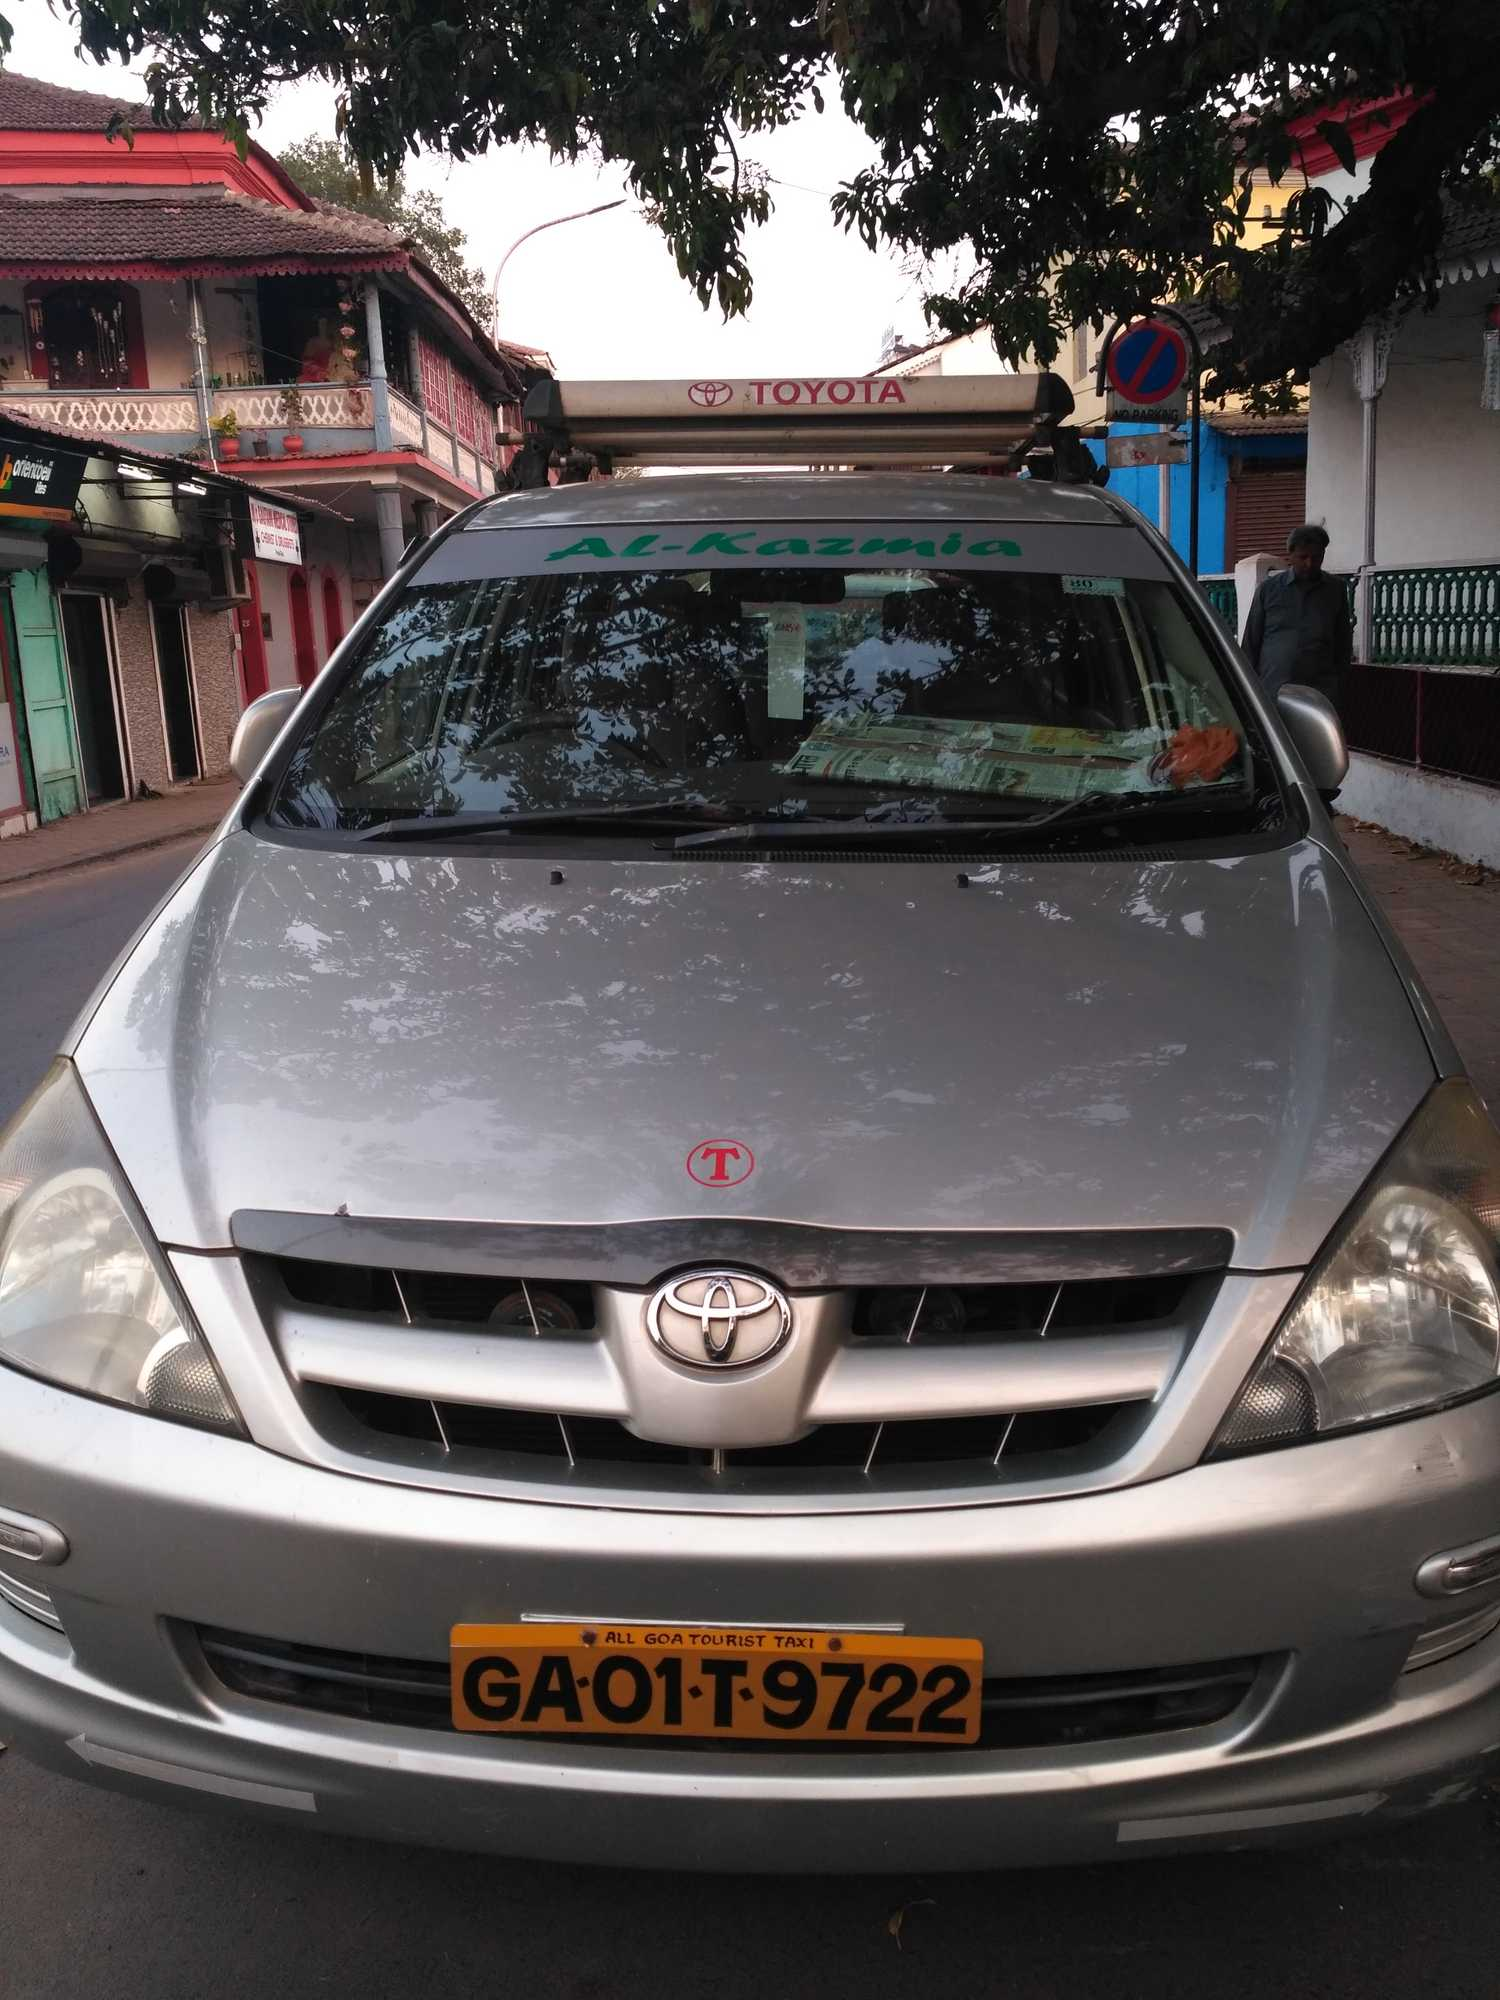numberplate: (438, 1611, 986, 1760)
